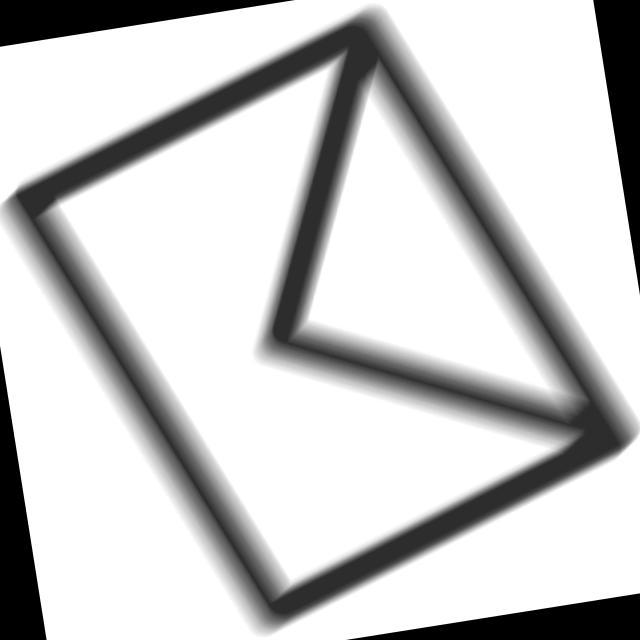letter: (1, 1, 640, 640)
